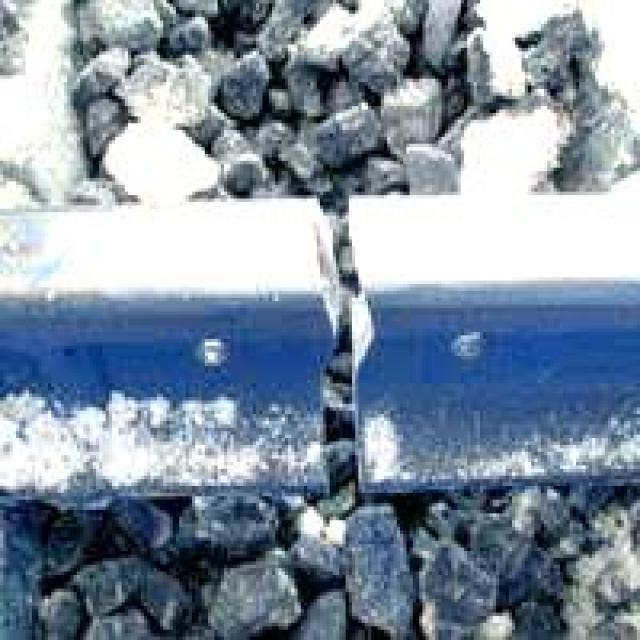broken_rail_high: (292, 198, 400, 492)
